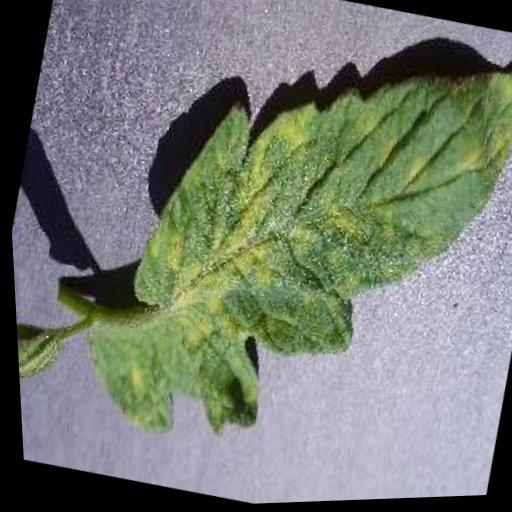Leaf Mold: (55, 0, 512, 506)
